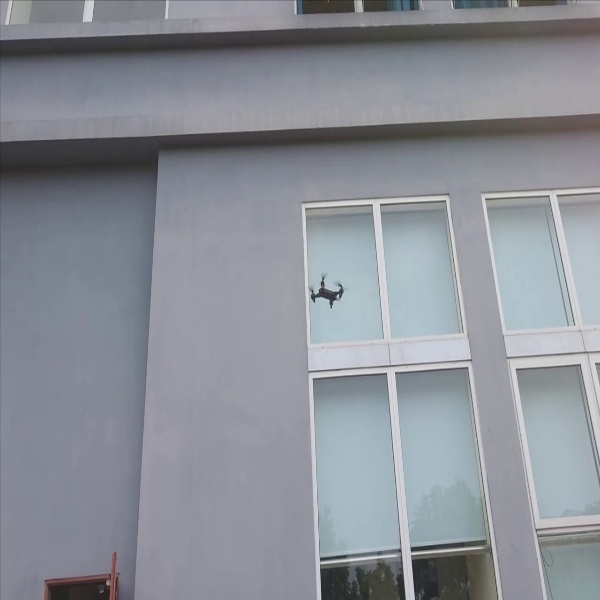drone: (307, 271, 347, 314)
